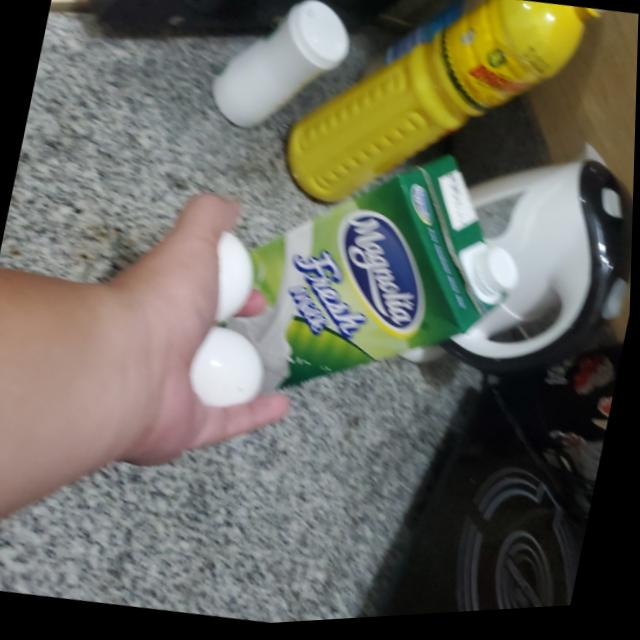egg: (179, 321, 274, 415), (198, 224, 265, 332)
milk: (234, 130, 538, 430)
